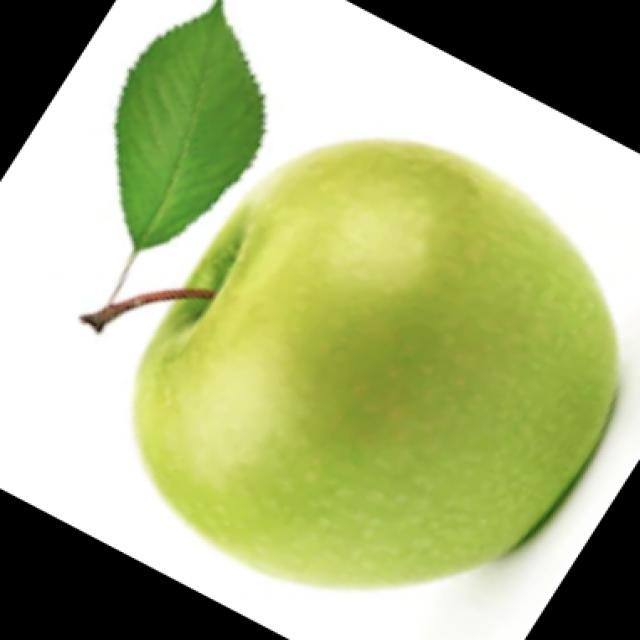Fresh Apple: (128, 145, 618, 583)
